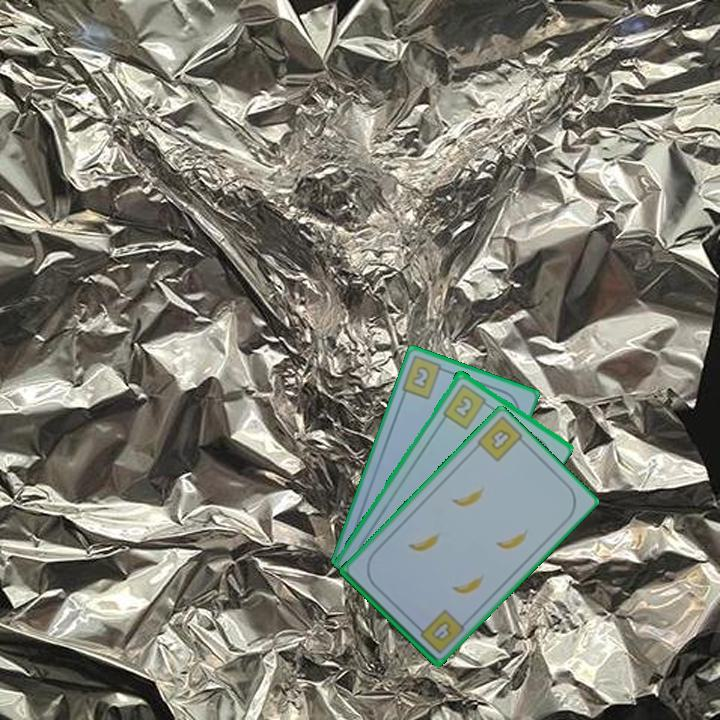2b: (439, 380, 493, 432), (398, 353, 451, 402)
4b: (412, 606, 465, 657), (487, 425, 514, 453)
